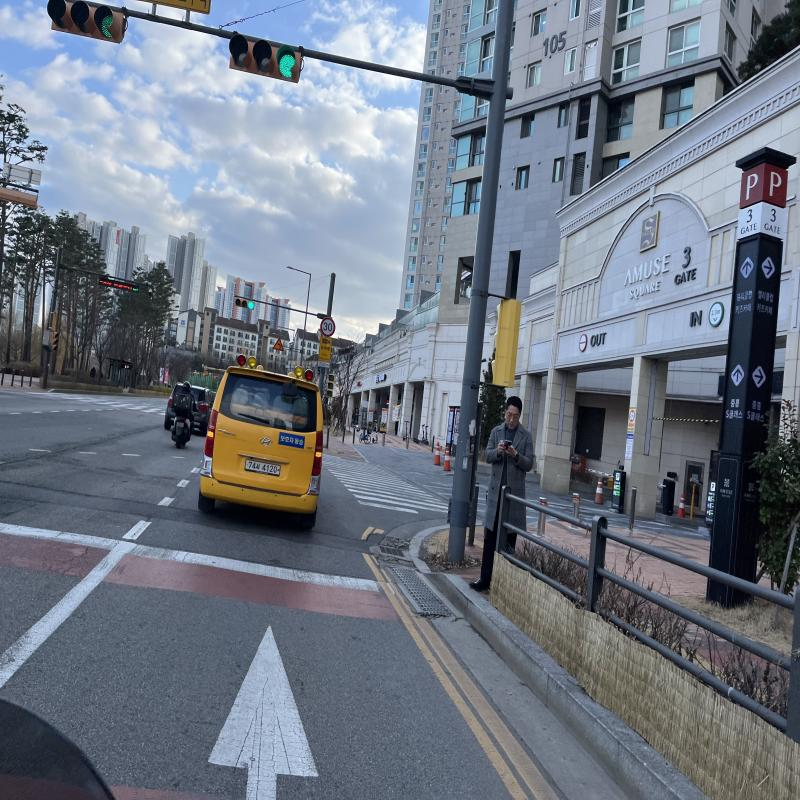green: (276, 49, 300, 80)
